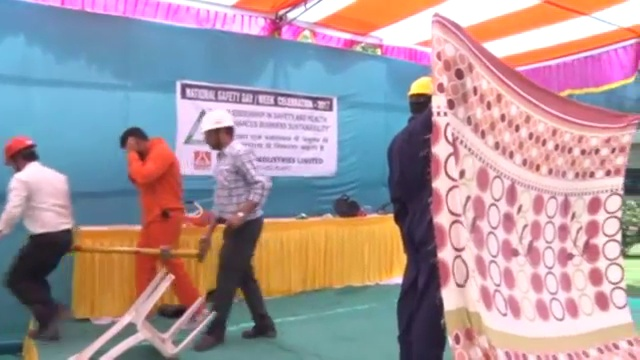helmet: (1, 135, 38, 165), (199, 107, 235, 133), (405, 74, 440, 98)
helmet_off: (118, 125, 148, 155)
helmet_on: (199, 107, 235, 152), (1, 135, 38, 174), (404, 72, 435, 116)
person: (198, 107, 277, 350), (386, 74, 449, 360), (117, 125, 203, 318), (1, 134, 75, 351)
